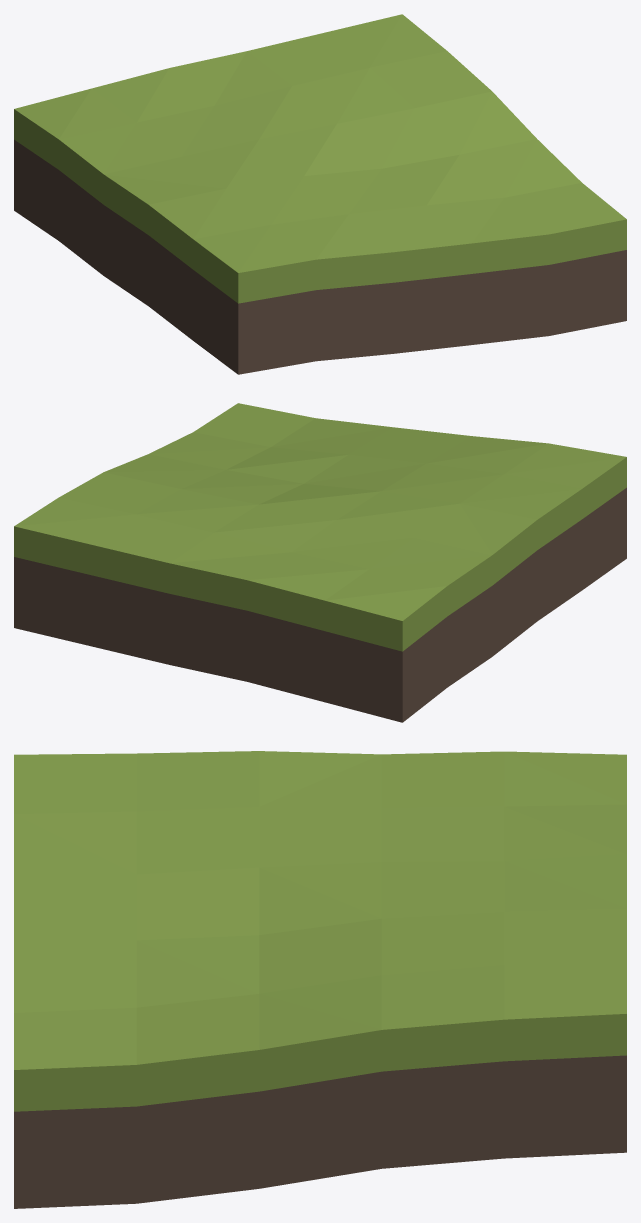
The model's file is terrain-world-valley_01-2.fbx.
3 views of the same model, one above another, from view 1: azimuth 30°, elevation 25°; view 2: azimuth 150°, elevation 25°; view 3: azimuth 270°, elevation 25° (orthographic). The views are drawn at different scales.
Visible parts, largest first — view 1: terrain-world-valley_01-2; view 2: terrain-world-valley_01-2; view 3: terrain-world-valley_01-2.
Boxes of the visible parts, x1,y1,x2,y2 form: terrain-world-valley_01-2: (14,14,626,374); terrain-world-valley_01-2: (14,403,626,722); terrain-world-valley_01-2: (14,751,626,1208).
Bounding box in the file's own units: 20.01 × 20 × 7.17.
